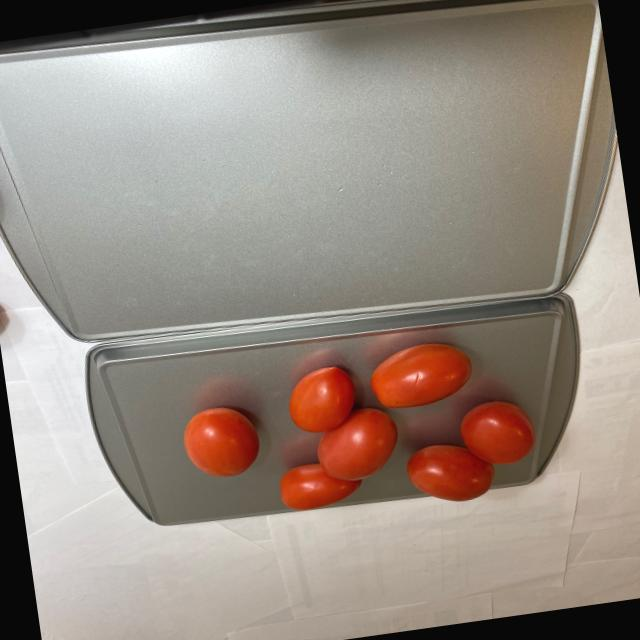tomato: (163, 323, 550, 540)
